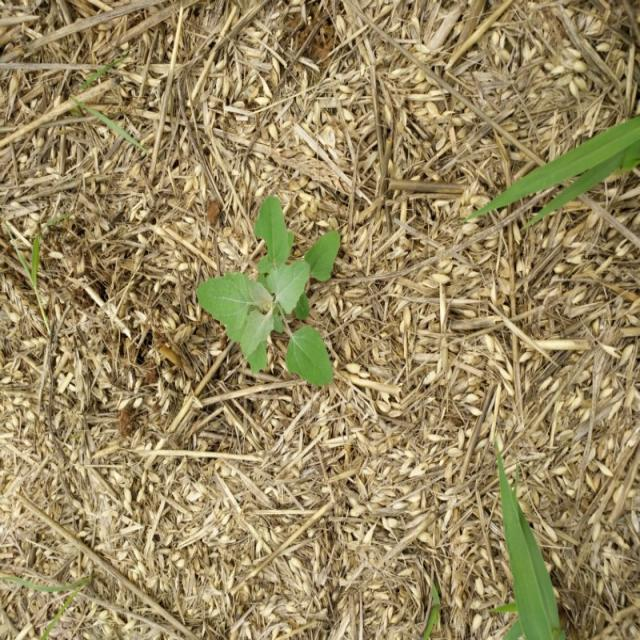goosefoots: (195, 195, 362, 393)
